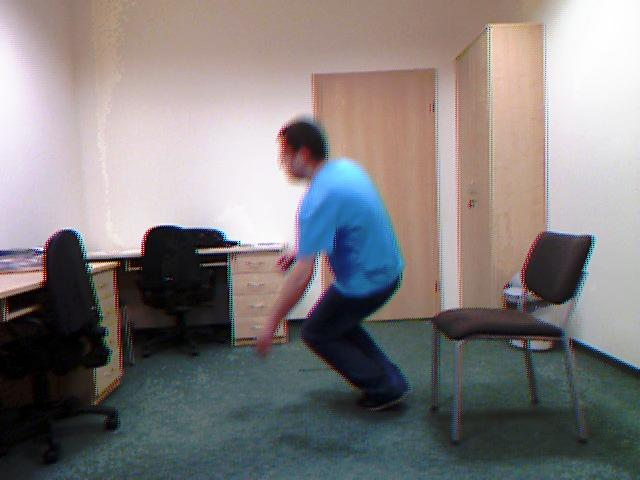near-fall: (243, 113, 419, 411)
